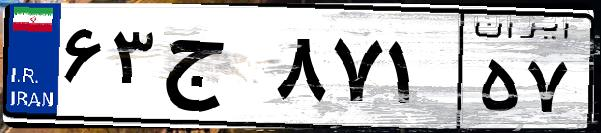1: (385, 28, 445, 110)
3: (110, 28, 158, 98)
5: (475, 38, 525, 113)
6: (57, 26, 110, 100)
7: (330, 28, 385, 110), (525, 38, 570, 115)
8: (270, 28, 330, 110)
ج: (158, 20, 270, 120)
